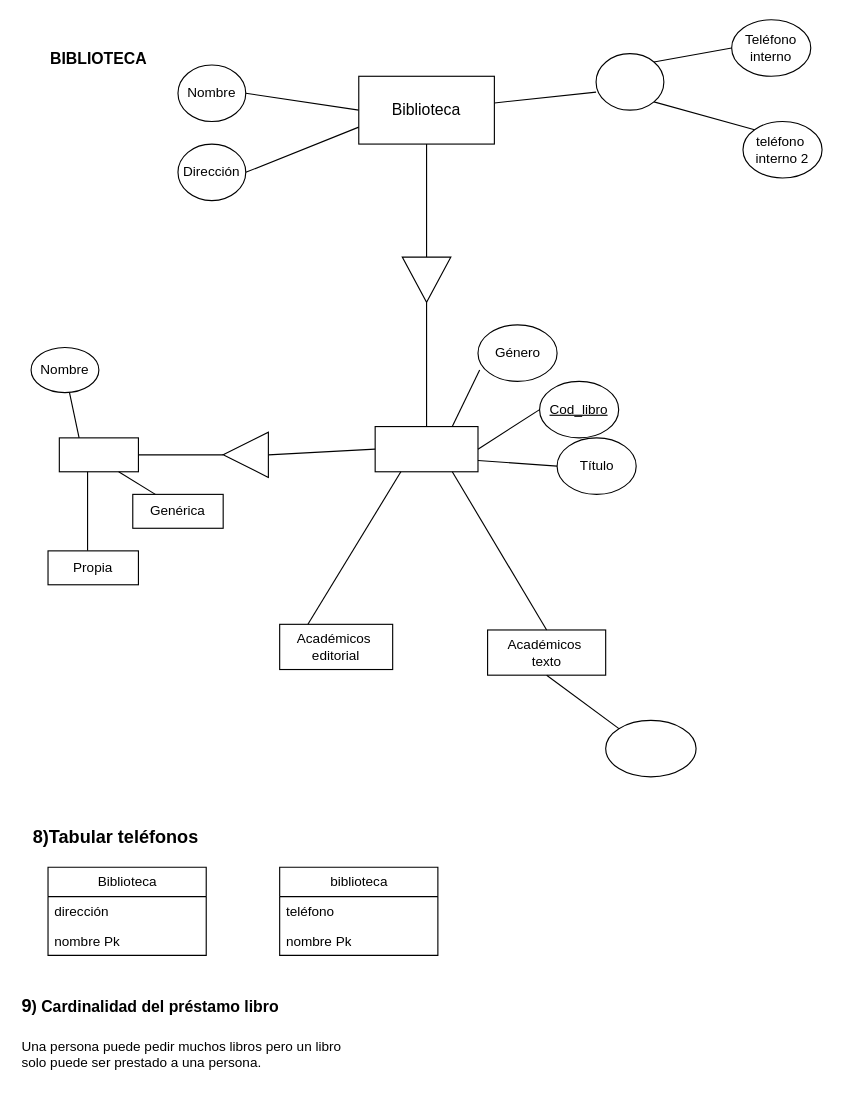
Some shapes in this 842 by 1116 pixel diagram are drawn without their labels. The shapes that lost their labels are listed below. From the top down, each one's centre as x and y in pixels, then its label:
At (x=629, y=81): "Teléfonos".
At (x=426, y=279): "ES".
At (x=98, y=454): "Editorial".
At (x=426, y=448): "Libros".
At (x=650, y=748): "Materia".
